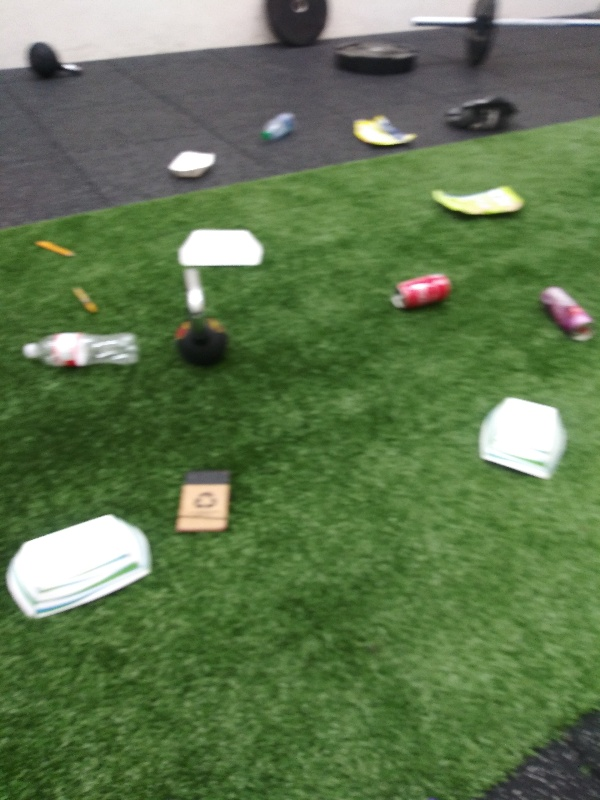bag: (424, 182, 527, 225), (346, 114, 421, 150)
bottle: (19, 329, 143, 373), (259, 106, 302, 146)
can: (534, 281, 598, 347), (387, 270, 456, 314)
plate: (2, 511, 155, 629), (472, 394, 572, 487), (172, 225, 268, 272), (162, 148, 224, 182)
